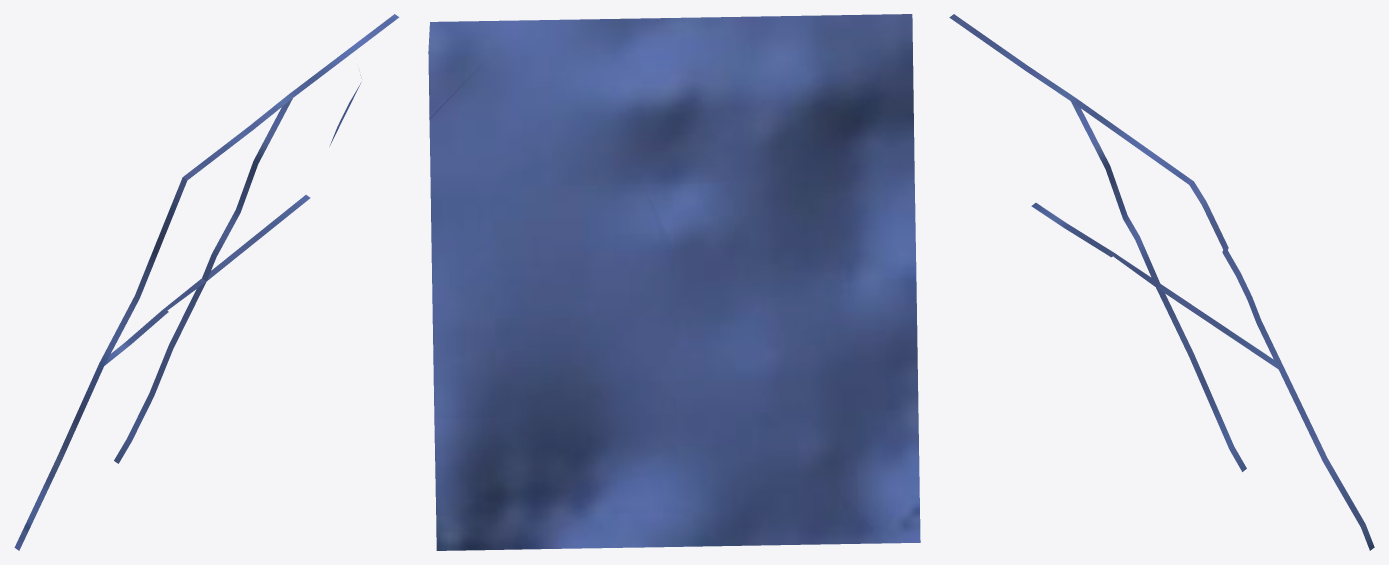
The picture shows the model from 3 angles, left to right: view 1: azimuth 30°, elevation 25°; view 2: azimuth 150°, elevation 25°; view 3: azimuth 270°, elevation 25°; orthographic projection. The views are drawn at different scales.
Bounding box in the file's own units: 19418 × 18166 × 16583.
1 material, 1 textured.
